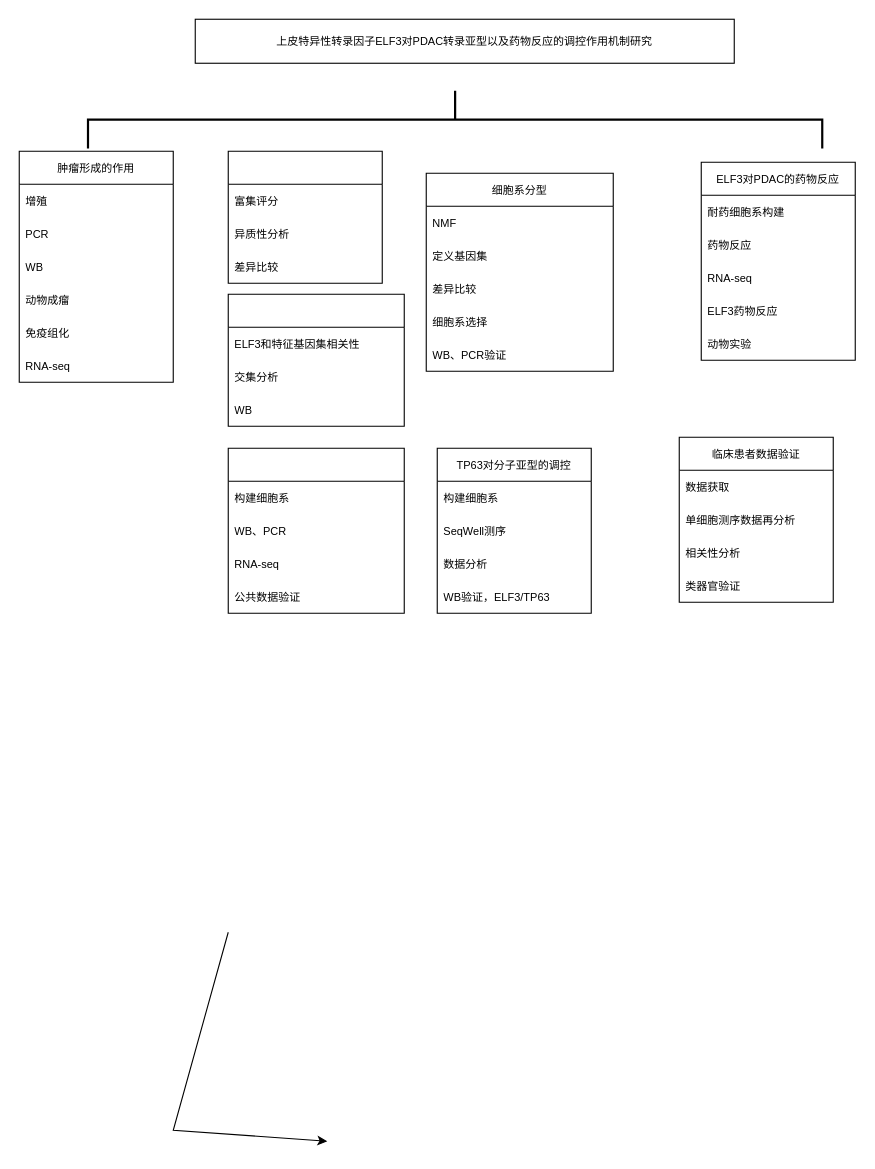
Image size: 875x1169. Some labels were removed from this diagram. Each missing label, with the box of its shape:
ELF3对分子亚型的调控: (227, 447, 404, 613)
原发和转移PDAC单细胞分析: (227, 150, 382, 283)
转录亚型基因集分析: (227, 293, 404, 426)
